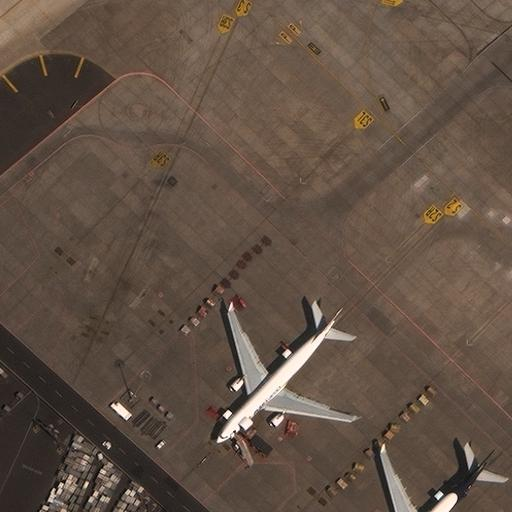Large Civil Transport: (217, 308, 350, 441), (376, 443, 500, 511)
